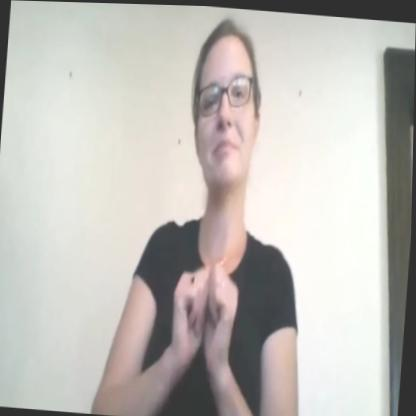HowAreYou: (161, 259, 250, 386)
